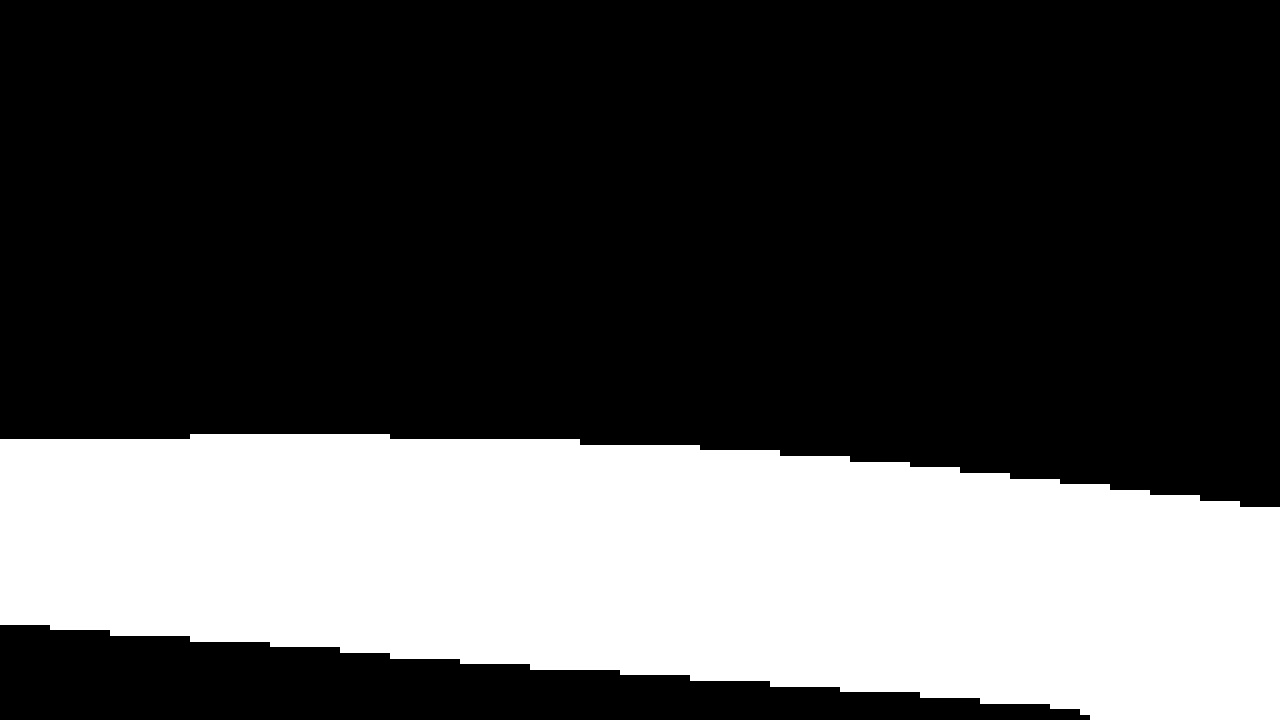Turbine: (20, 411, 1272, 703)
